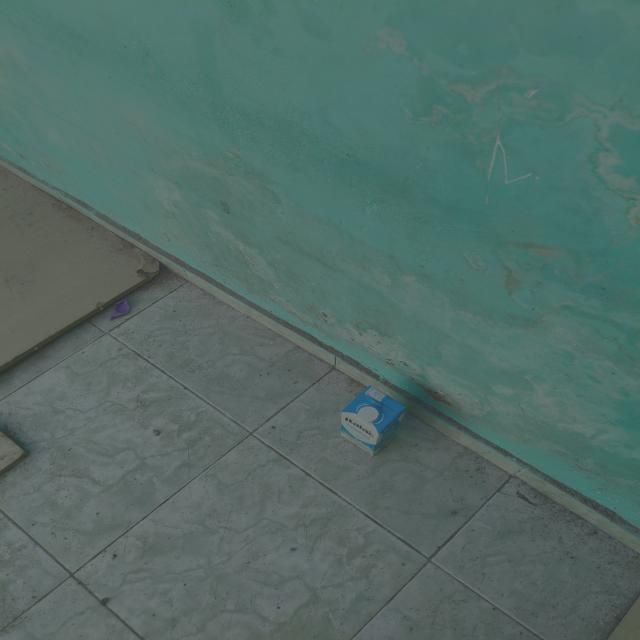Caixa de Leite: (339, 383, 407, 453)
